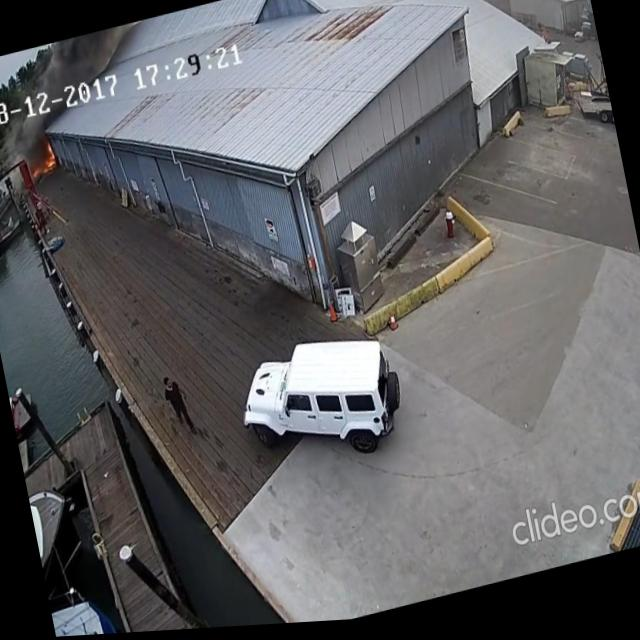fire: (26, 138, 59, 178)
